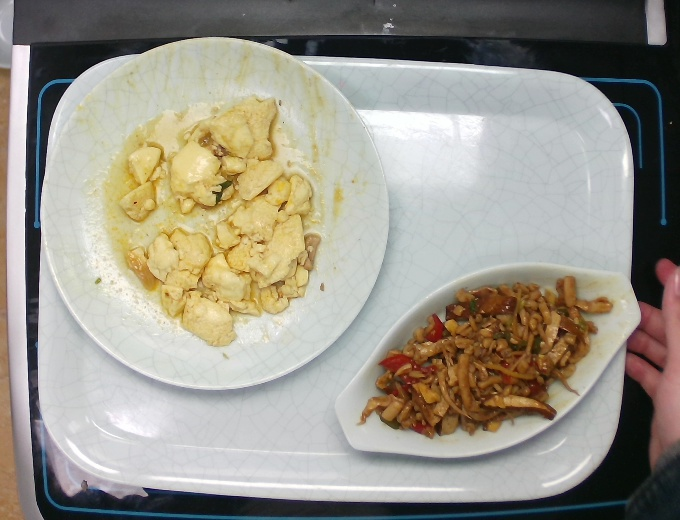JYsf-Da_Yuan_Pan: (38, 36, 391, 389)
JYsf-Yu_Pan: (333, 259, 644, 465)
